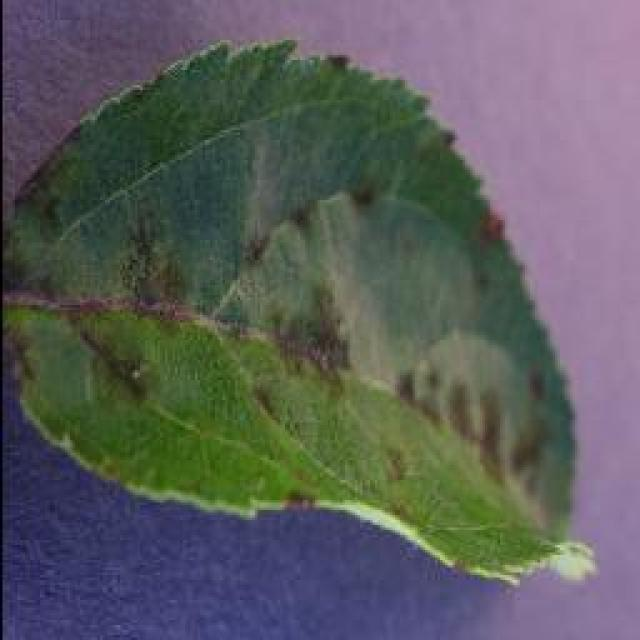apple scab disease: (3, 35, 595, 587)
